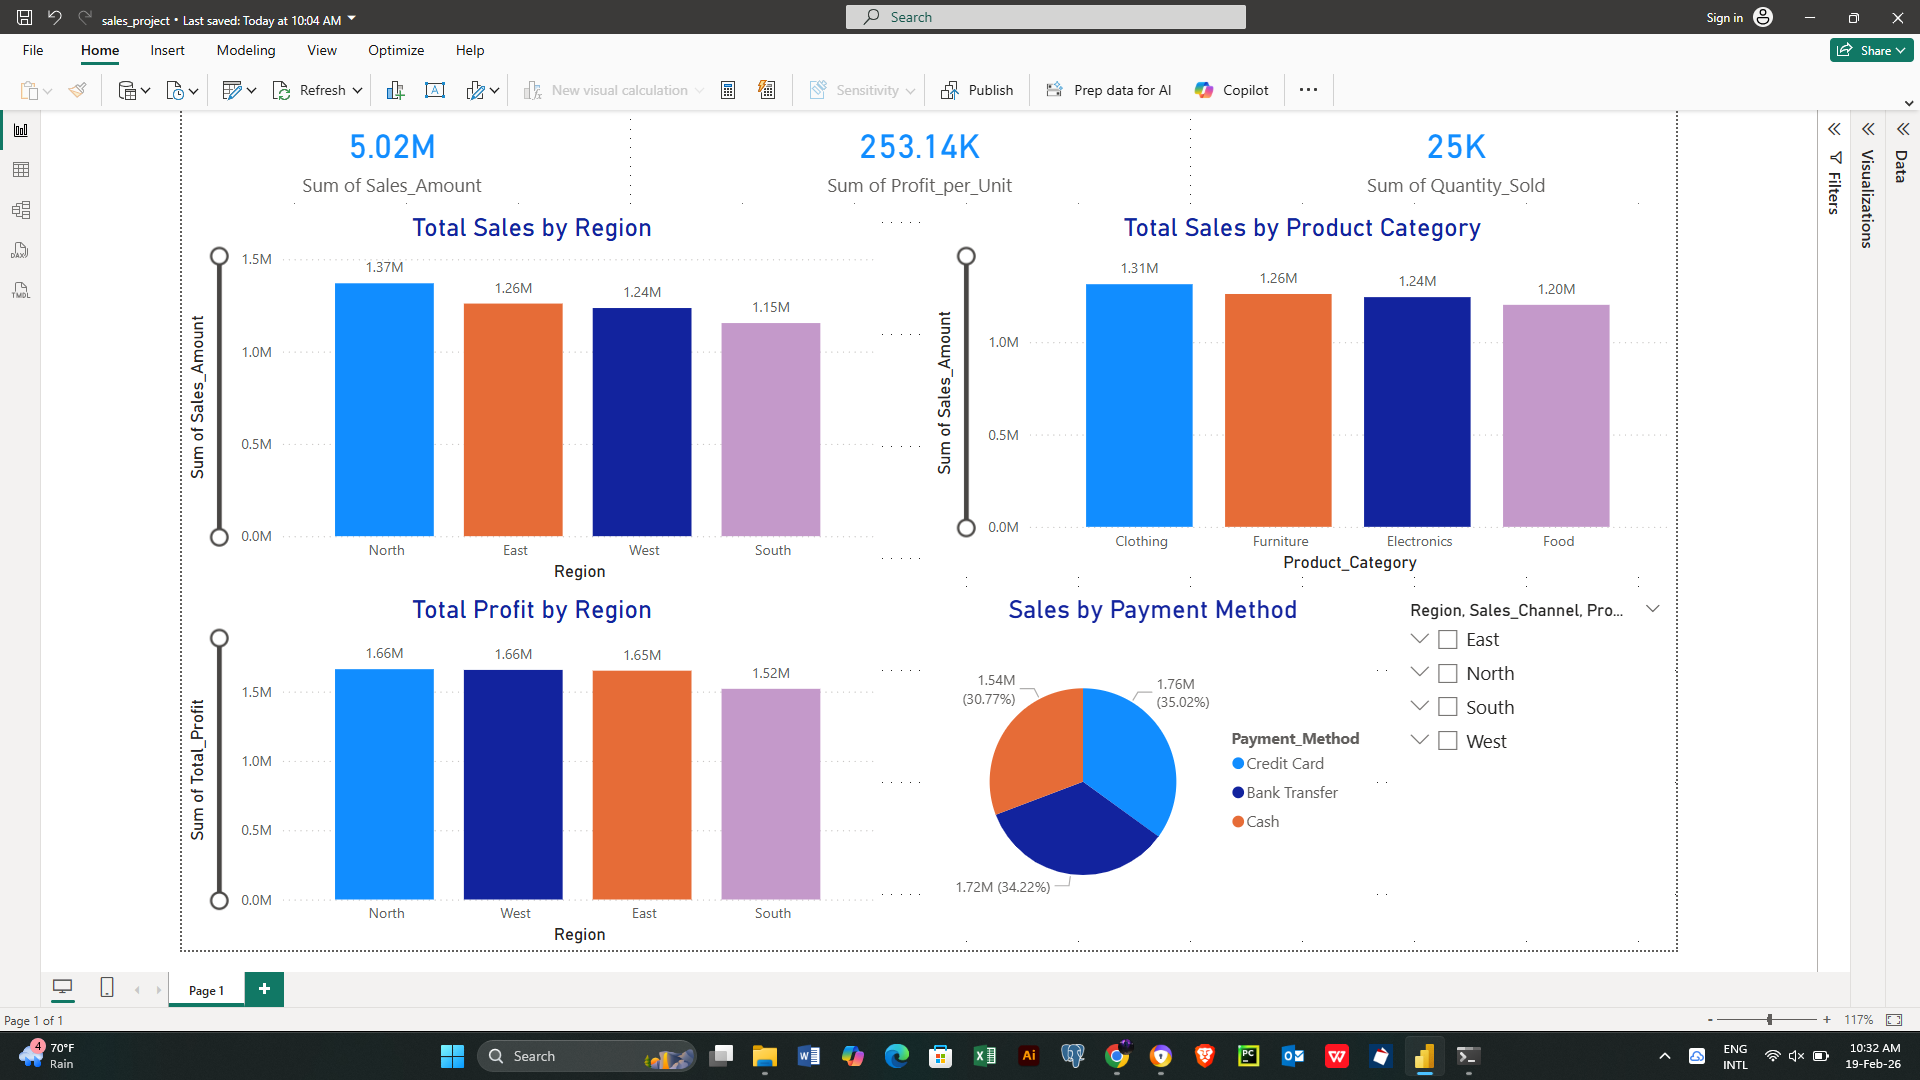

What the dashboard file says about the page in this screenshot:
{"tool":"powerbi","page":{"name":"Page 1","canvas":[1280,720],"ordinal":0},"visuals":[{"type":"card","fields":{"Values":["Sum(cleaned_sales_data.Sales_Amount)"]},"box":[0,0,360,80],"z":0},{"type":"card","fields":{"Values":["Sum(cleaned_sales_data.Quantity_Sold)"]},"box":[904,0,376,80],"z":1000},{"type":"card","fields":{"Values":["Sum(cleaned_sales_data.Profit_per_Unit)"]},"box":[448,0,368,80],"z":2000},{"type":"clusteredColumnChart","title":"Total Sales by Region","fields":{"Category":["cleaned_sales_data.Region"],"Y":["Sum(cleaned_sales_data.Sales_Amount)"]},"box":[0,88,600,320],"z":3000},{"type":"clusteredColumnChart","title":"Total Sales by Product Category","fields":{"Category":["cleaned_sales_data.Product_Category"],"Y":["Sum(cleaned_sales_data.Sales_Amount)"]},"box":[640,88,640,312],"z":4000},{"type":"clusteredColumnChart","title":"Total Profit by Region","fields":{"Category":["cleaned_sales_data.Region"],"Y":["Sum(cleaned_sales_data.Total_Profit)"]},"box":[0,416,600,304],"z":5000},{"type":"pieChart","title":"Sales by Payment Method","fields":{"Category":["cleaned_sales_data.Payment_Method"],"Y":["Sum(cleaned_sales_data.Sales_Amount)"]},"box":[640,416,384,296],"z":6000},{"type":"slicer","fields":{"Values":["cleaned_sales_data.Region","cleaned_sales_data.Sales_Channel","cleaned_sales_data.Product_Category","cleaned_sales_data.Customer_Type","cleaned_sales_data.Year"]},"box":[1040,416,240,296],"z":7000}]}

Visuals, with their boxes on the page's 1280x720 design canvas (x1, y1, x2, y2). These are canvas units, not pixel positions in the 1920x1080 screenshot, which may show the page scaled, cropped or inside an application window:
card - Sum(cleaned_sales_data.Sales_Amount): (x1=0, y1=0, x2=360, y2=80)
card - Sum(cleaned_sales_data.Quantity_Sold): (x1=904, y1=0, x2=1280, y2=80)
card - Sum(cleaned_sales_data.Profit_per_Unit): (x1=448, y1=0, x2=816, y2=80)
"Total Sales by Region" clusteredColumnChart: (x1=0, y1=88, x2=600, y2=408)
"Total Sales by Product Category" clusteredColumnChart: (x1=640, y1=88, x2=1280, y2=400)
"Total Profit by Region" clusteredColumnChart: (x1=0, y1=416, x2=600, y2=720)
"Sales by Payment Method" pieChart: (x1=640, y1=416, x2=1024, y2=712)
slicer - cleaned_sales_data.Region x cleaned_sales_data.Sales_Channel: (x1=1040, y1=416, x2=1280, y2=712)
